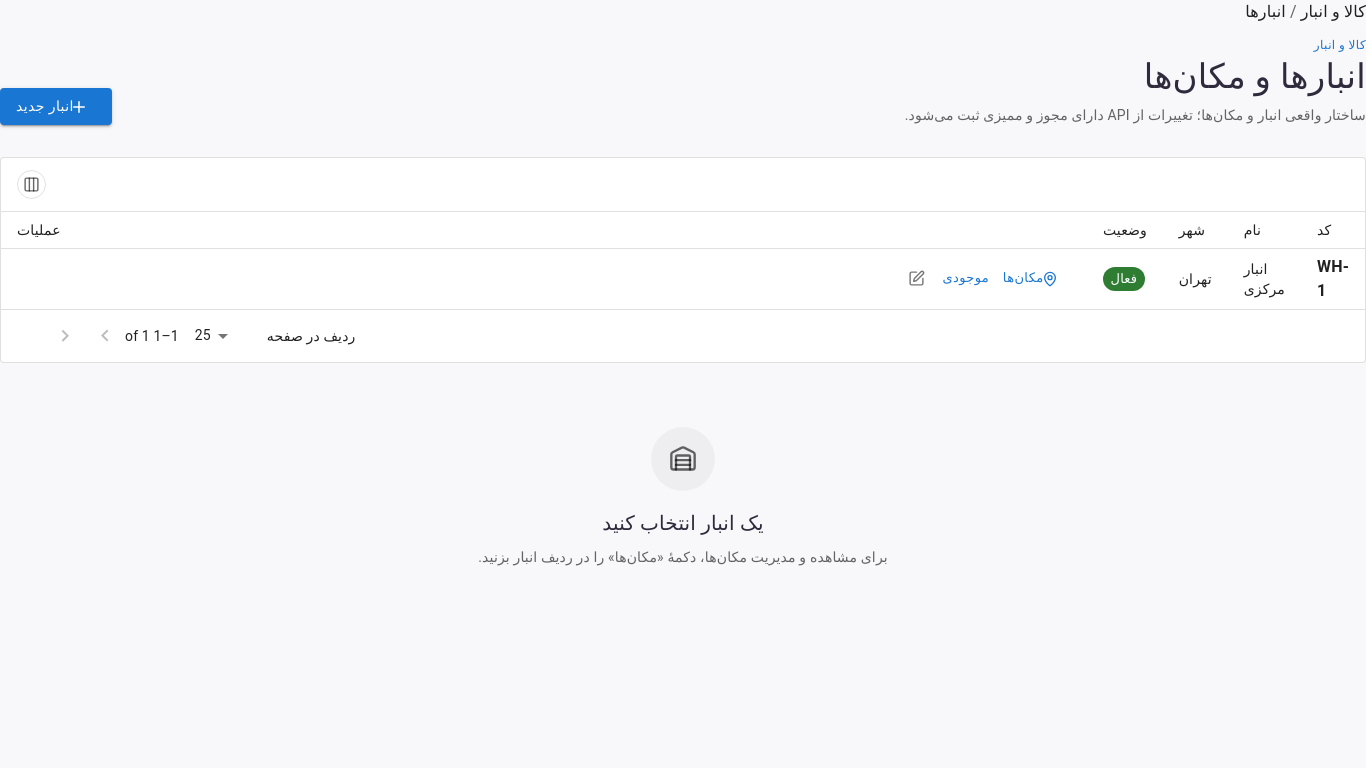
Test: WarehousesView › opens create and edit dialogs only for inventory.adjust
Expected: the text "انبار مرکزی" is shown, [1228,249,1301,310]
Click the button "انبار جدید": [56, 107] box [0,88,112,125]
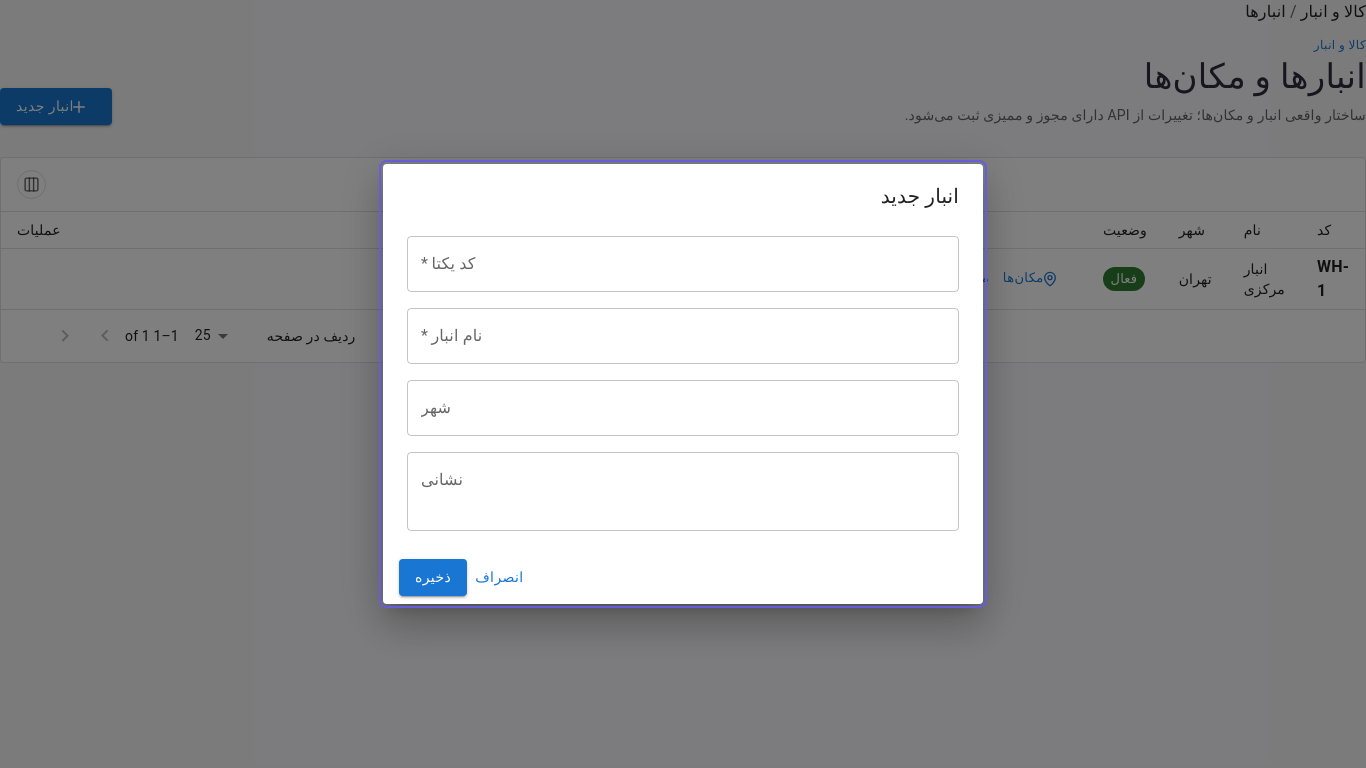
Now the dialog "انبار جدید" is shown, box [383,164,983,604]
Click the button "انصراف": [499, 578] box [467,559,532,596]
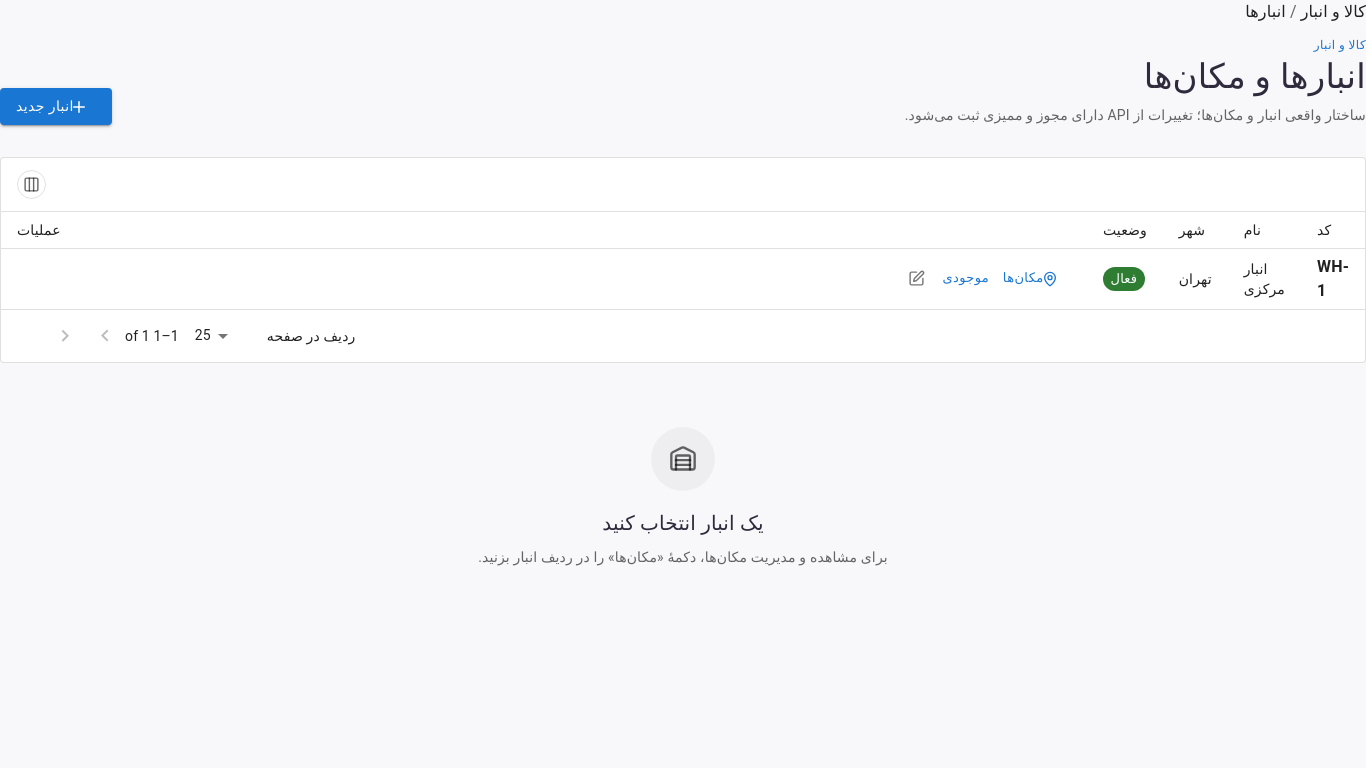
Click the button named "ویرایش انبار انبار مرکزی": [916, 279] box [903,263,930,294]
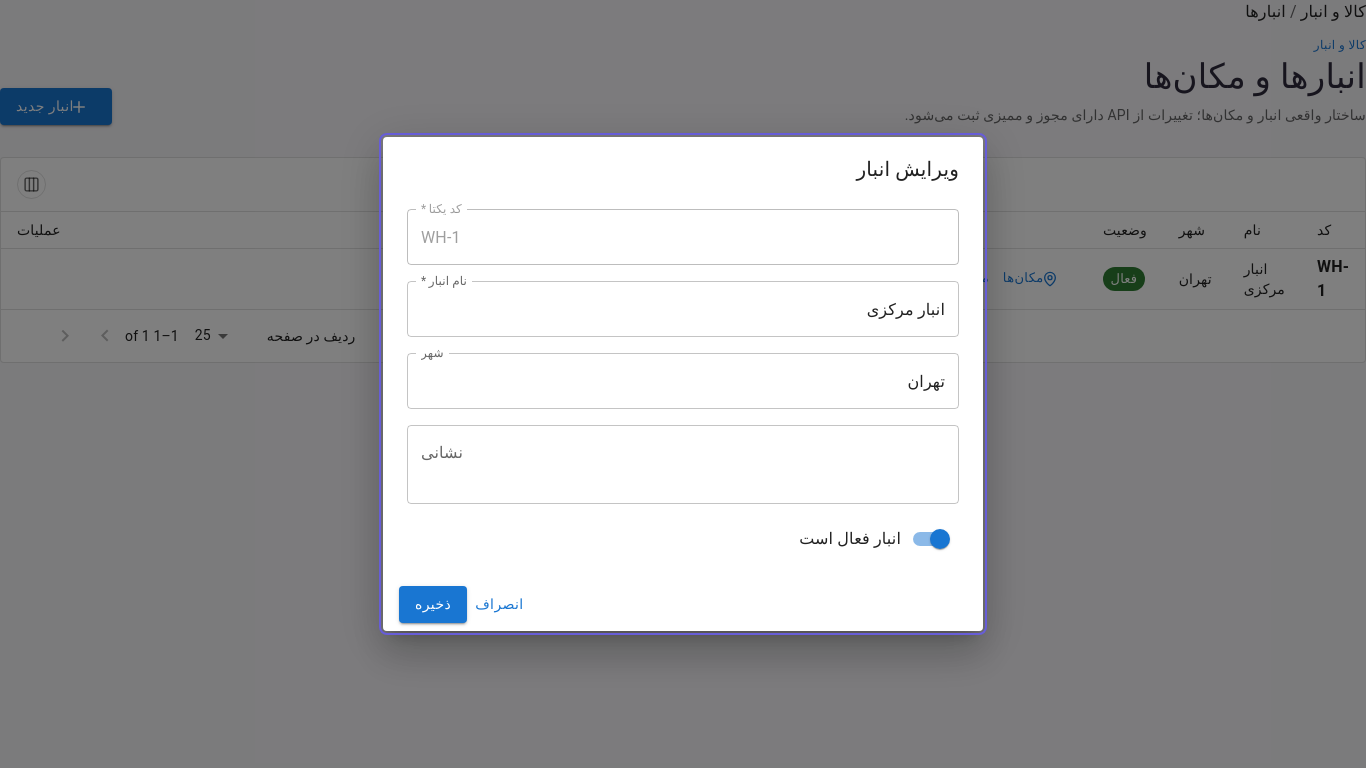
Now the dialog "ویرایش انبار" is shown, box [383,137,983,631]
